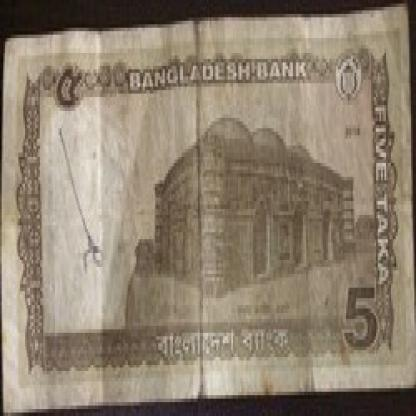Five Taka: (343, 278, 381, 361), (46, 66, 92, 132)
